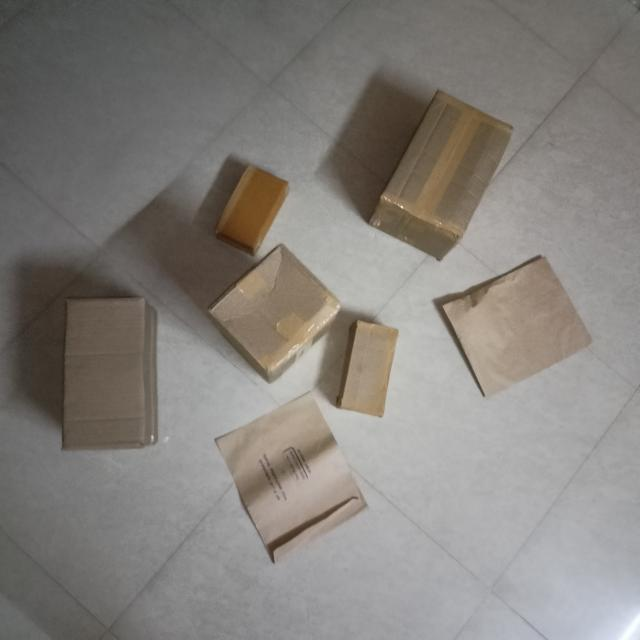box: (217, 396, 368, 567), (442, 252, 595, 400), (382, 91, 518, 234), (210, 244, 341, 370), (66, 299, 147, 456), (219, 164, 287, 252), (341, 319, 398, 415)
